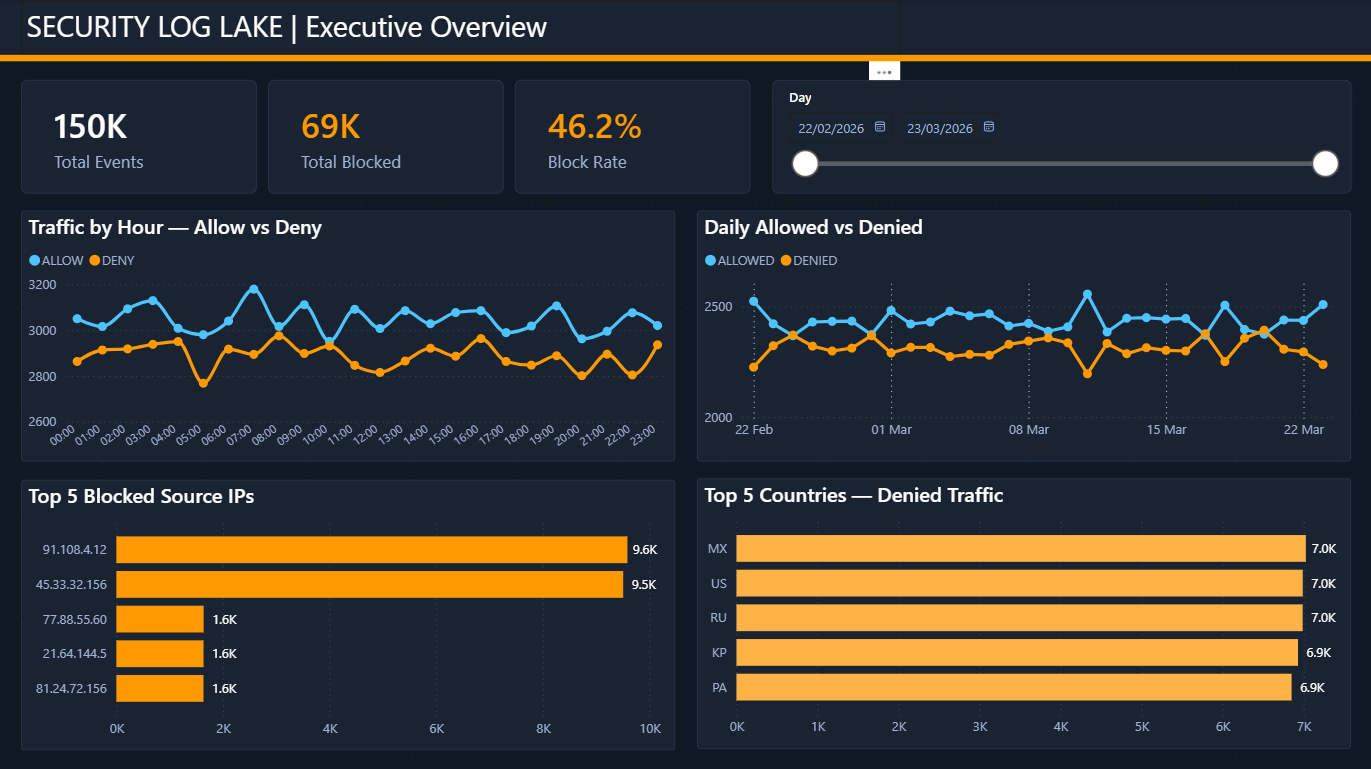

This screenshot's page, from the dashboard's own definition file:
{"tool":"powerbi","page":{"name":"Traffic Overview ","canvas":[1280,720],"ordinal":0},"visuals":[{"type":"shape","box":[0,0,1280,55],"z":0},{"type":"cardVisual","fields":{"Data":["Sum(q9_daily_summary.total_events)"]},"box":[20,76,220,106],"z":1000},{"type":"textbox","box":[20,3,820,50],"z":2000},{"type":"shape","box":[0,48,1280,16],"z":3000},{"type":"lineChart","title":"Traffic by Hour — Allow vs Deny","fields":{"Y":["Sum(q2_traffic_by_hour.total)"],"Series":["q2_traffic_by_hour.action"],"Category":["q2_traffic_by_hour.hour_label"]},"box":[20,198,610,234],"z":4000},{"type":"lineChart","title":"Daily Allowed vs Denied","fields":{"Category":["q9_daily_summary.day"],"Y":["Sum(q9_daily_summary.allowed)","Sum(q9_daily_summary.blocked)"]},"box":[650,198,610,234],"z":5000},{"type":"clusteredBarChart","title":"Top 5 Blocked Source IPs","fields":{"Y":["Sum(q1_top_blocked_ips.blocked_count)"],"Category":["q1_top_blocked_ips.src_ip"]},"box":[20,449,610,252],"z":6000},{"type":"clusteredBarChart","title":"Top 5 Countries — Denied Traffic","fields":{"Category":["q8_denied_by_country.country_src"],"Y":["Sum(q8_denied_by_country.denied_count)"]},"box":[650,448,610,252],"z":7000},{"type":"cardVisual","fields":{"Data":["Sum(q9_daily_summary.blocked)"]},"box":[250,76,220,106],"z":8000},{"type":"cardVisual","fields":{"Data":["_Measures.Block Rate Percentage"]},"box":[480,76,220,106],"z":9000},{"type":"slicer","fields":{"Values":["q9_daily_summary.day"]},"box":[720,76,540,106],"z":10000}]}

Visuals, with their boxes in screenshot pixels (x1, y1, x2, y2), scaled from the page's 1280x720 canvas onto the 1371x769 screenshot:
shape: rect(0, 0, 1370, 59)
cardVisual - Sum(q9_daily_summary.total_events): rect(21, 81, 257, 194)
textbox: rect(21, 3, 900, 57)
shape: rect(0, 51, 1370, 68)
"Traffic by Hour — Allow vs Deny" lineChart: rect(21, 211, 675, 461)
"Daily Allowed vs Denied" lineChart: rect(696, 211, 1350, 461)
"Top 5 Blocked Source IPs" clusteredBarChart: rect(21, 480, 675, 749)
"Top 5 Countries — Denied Traffic" clusteredBarChart: rect(696, 478, 1350, 748)
cardVisual - Sum(q9_daily_summary.blocked): rect(268, 81, 503, 194)
cardVisual - _Measures.Block Rate Percentage: rect(514, 81, 750, 194)
slicer - q9_daily_summary.day: rect(771, 81, 1350, 194)
